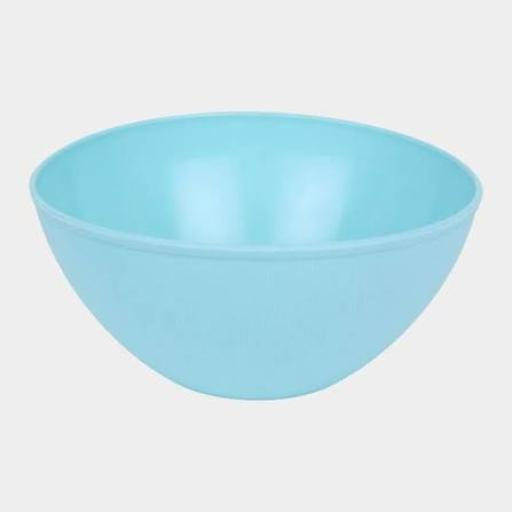Bowl: (31, 115, 481, 399)
